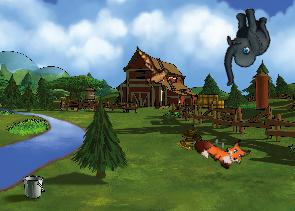eagle: (126, 46, 181, 94)
elephant: (208, 4, 280, 86)
fox: (191, 120, 253, 177)
